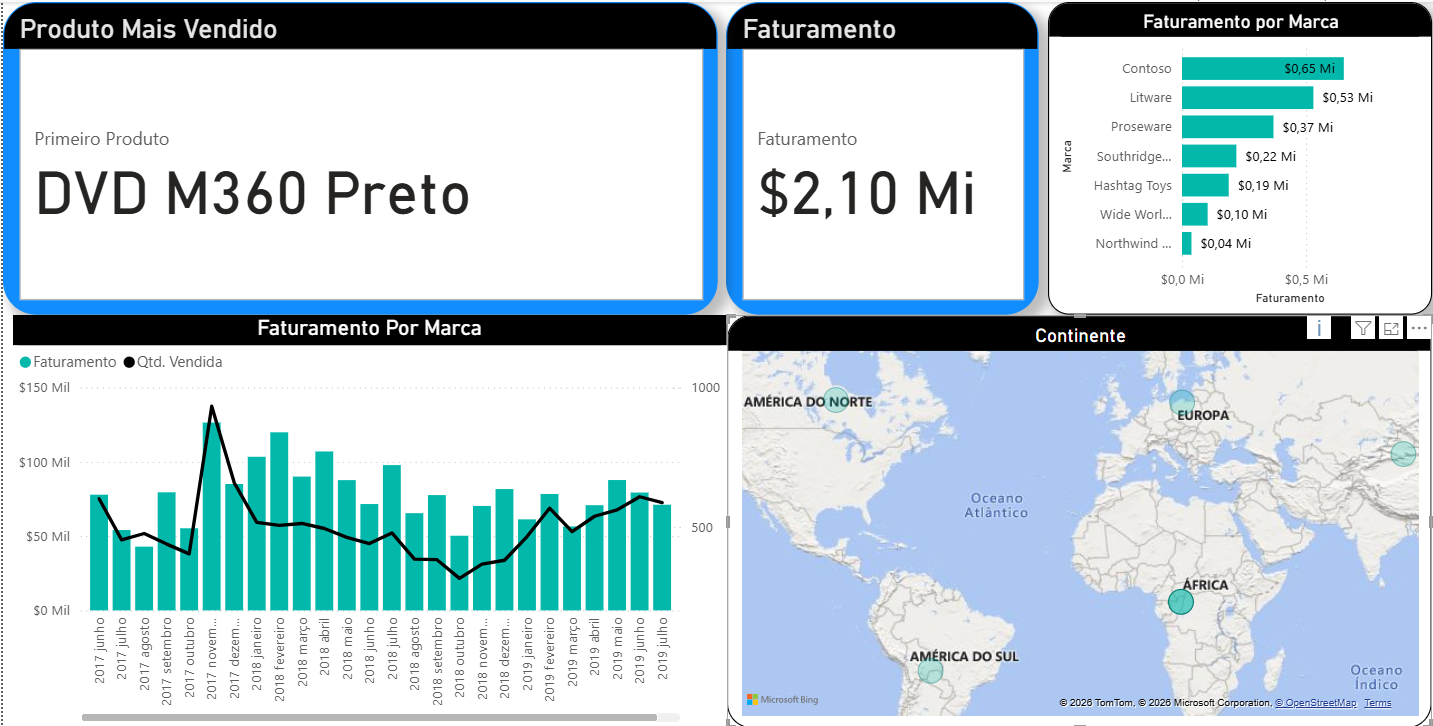

What the dashboard file says about the page in this screenshot:
{"tool":"powerbi","page":{"name":"Relatório de Vendas","canvas":[1280,720],"ordinal":0},"visuals":[{"type":"cardVisual","title":"Faturamento","fields":{"Data":["Sum(BaseVendas.Faturamento)"]},"box":[647.5,0,280.3,280.3],"z":0},{"type":"barChart","fields":{"Y":["Sum(BaseVendas.Faturamento)"],"Category":["BaseVendas.Marca"]},"box":[935.8,0,343.9,280.3],"z":1000},{"type":"cardVisual","title":"Produto Mais Vendido","fields":{"Data":["Min(BaseVendas.Produto)"]},"box":[0,0,640.3,280.3],"z":2000},{"type":"lineStackedColumnComboChart","title":"Faturamento Por Marca","fields":{"Category":["BaseVendas.Data da Venda.Variation.Hierarquia de datas.Ano","BaseVendas.Data da Venda.Variation.Hierarquia de datas.Mês"],"Y":["Sum(BaseVendas.Faturamento)"],"Y2":["Sum(BaseVendas.Qtd. Vendida)"]},"box":[9,280.3,638.5,369.9],"z":3000},{"type":"map","fields":{"Category":["BaseVendas.Continente"]},"box":[648.4,280.3,631.3,369.9],"z":4000}]}

Visuals, with their boxes on the page's 1280x720 design canvas (x1, y1, x2, y2). These are canvas units, not pixel positions in the 1433x726 screenshot, which may show the page scaled, cropped or inside an application window:
"Faturamento" cardVisual: {"x1": 648, "y1": 0, "x2": 928, "y2": 280}
barChart - Sum(BaseVendas.Faturamento) x BaseVendas.Marca: {"x1": 936, "y1": 0, "x2": 1280, "y2": 280}
"Produto Mais Vendido" cardVisual: {"x1": 0, "y1": 0, "x2": 640, "y2": 280}
"Faturamento Por Marca" lineStackedColumnComboChart: {"x1": 9, "y1": 280, "x2": 648, "y2": 650}
map - BaseVendas.Continente: {"x1": 648, "y1": 280, "x2": 1280, "y2": 650}
